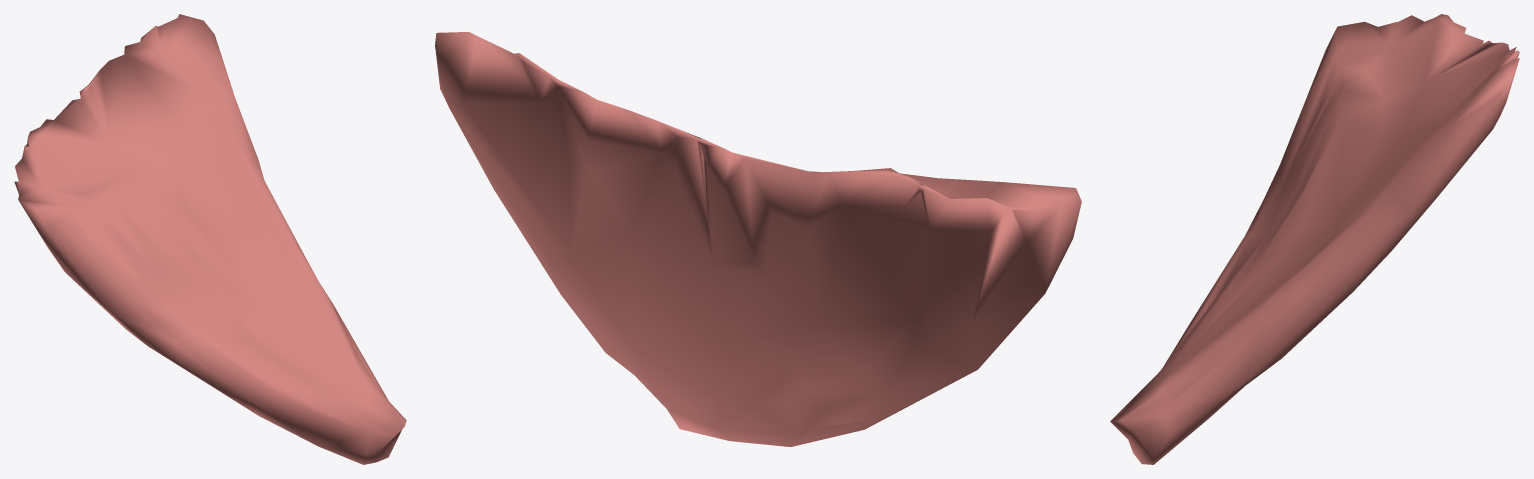
3 renders of one model, left to right at view 1: azimuth 30°, elevation 25°; view 2: azimuth 150°, elevation 25°; view 3: azimuth 270°, elevation 25°, orthographic. The views are drawn at different scales.
Visible parts, largest first — view 1: ZA_d67398f574ba9c85; view 2: ZA_d67398f574ba9c85; view 3: ZA_d67398f574ba9c85.
Boxes of the visible parts, box(x1,y1,x2,y2) form: ZA_d67398f574ba9c85: box(14, 14, 406, 464); ZA_d67398f574ba9c85: box(435, 32, 1081, 446); ZA_d67398f574ba9c85: box(1110, 14, 1519, 464).
Size of the model in its own units: 0.0236 by 0.026 by 0.0253.
